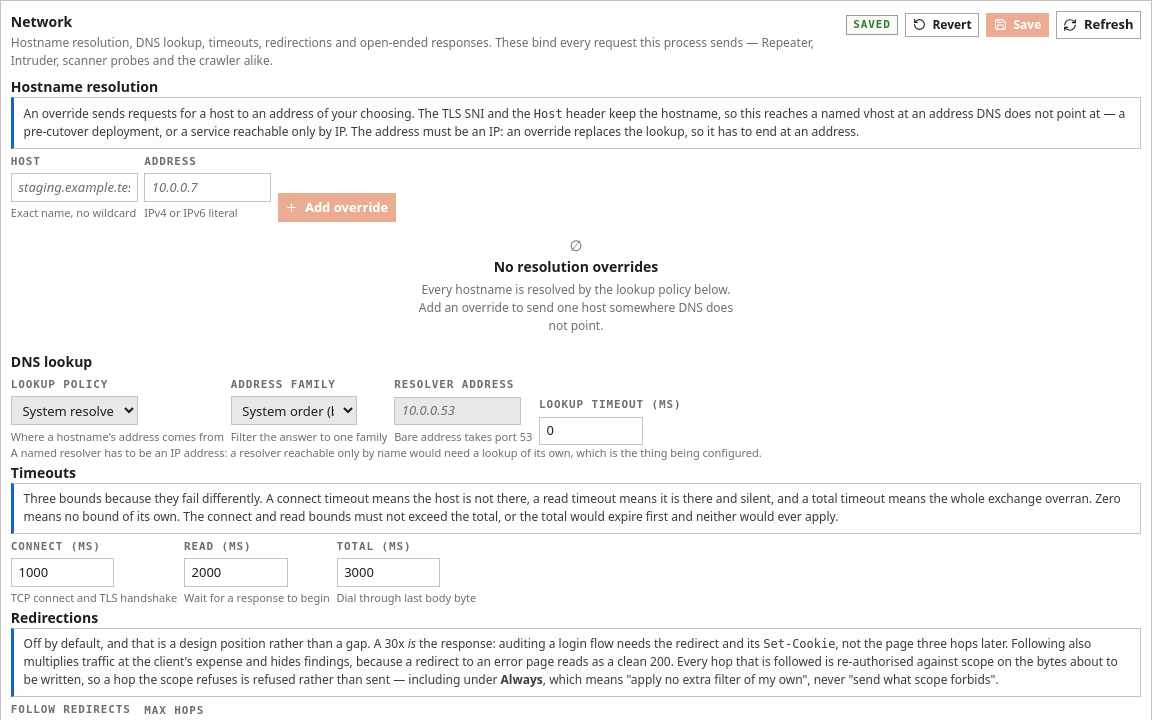
Test: Network Revert with a blanked number field › a blanked field alone (draft still clean) can be reverted
Clear the number field labelled "Connect (ms)": (63, 573) 11,558 -> 114,587
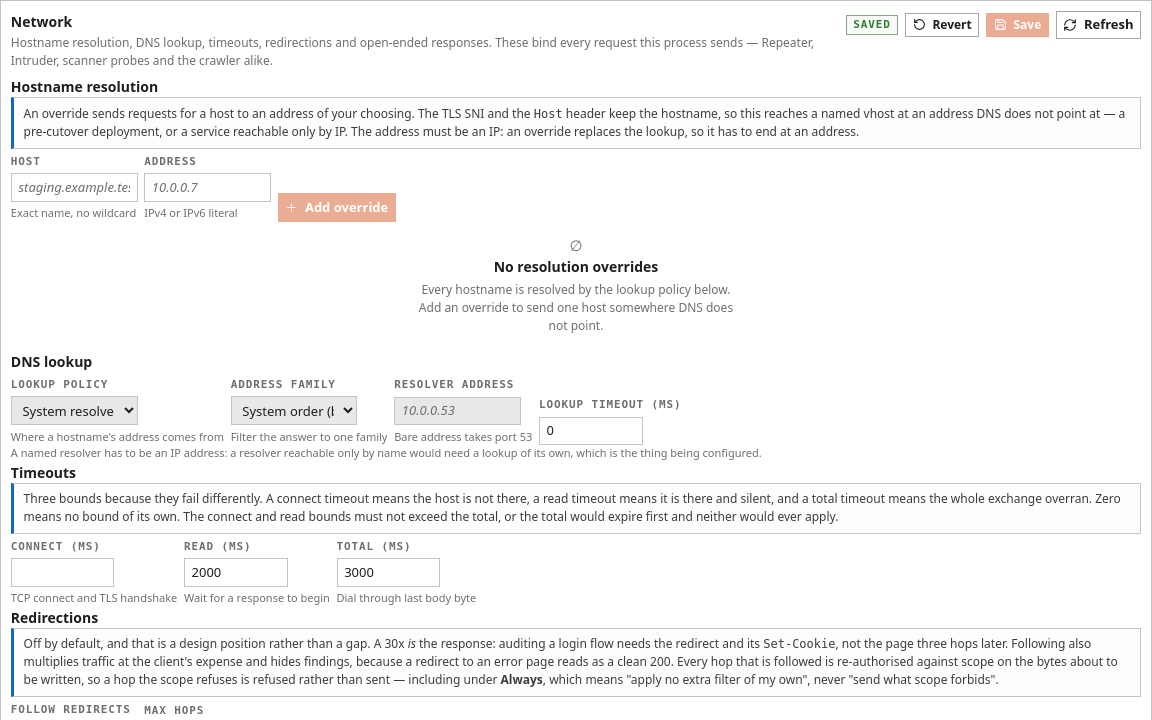
Click the button "Revert": (942, 25) 905,13 -> 980,37
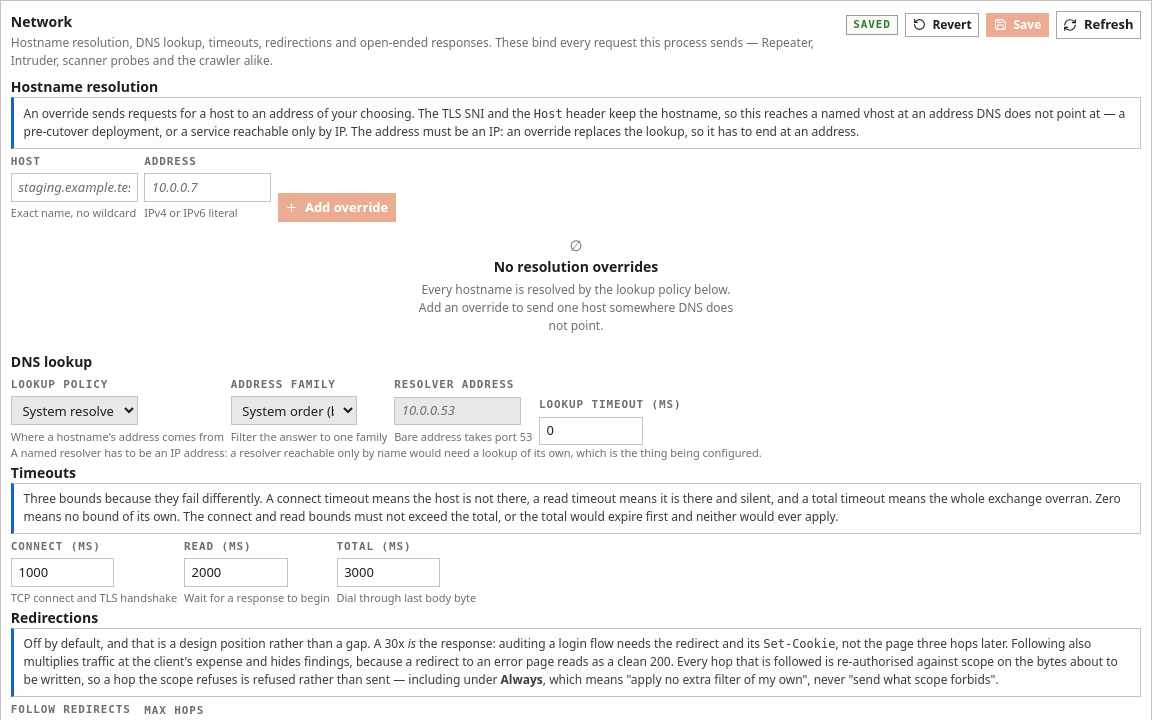
Expected: the number field labelled "Connect (ms)" holds "1000", 11,558 -> 114,587
